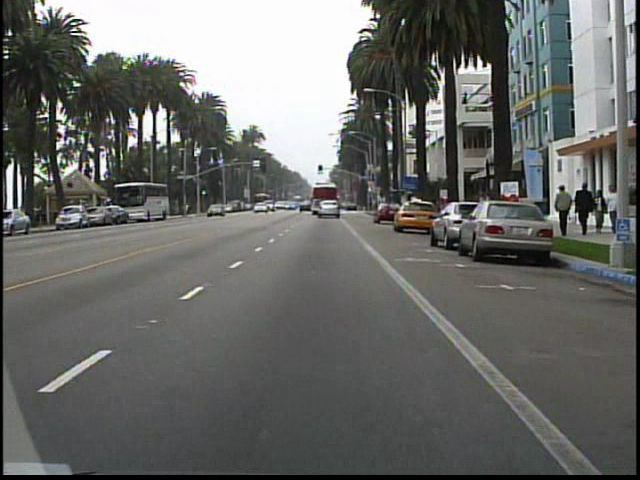person: (573, 176, 595, 238), (552, 183, 574, 237), (605, 183, 623, 233)
